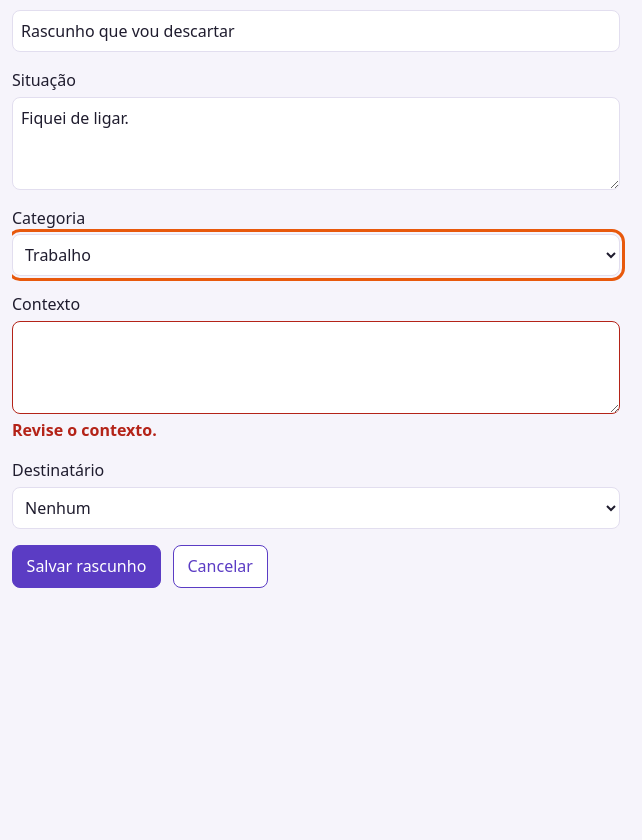
Scenario: A6: cancelar descarta os campos, o destinatário e os erros sem enviar
Earlier steps of the test are not shown.
Select "Informar direto" in the dropdown labelled "Destinatário": (316, 508) [12,487,620,529]
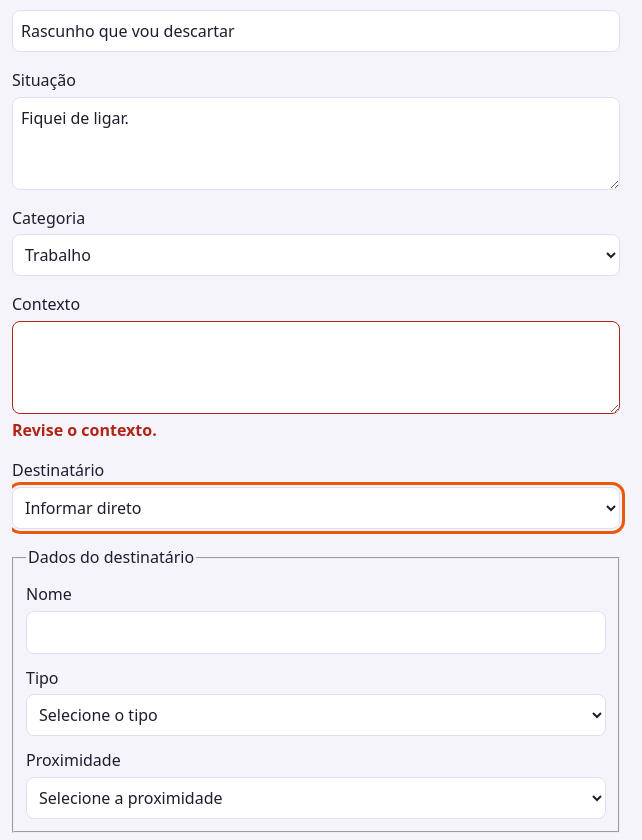
In the field labelled "Nome": (316, 632) [26,611,606,654], type "Rita"
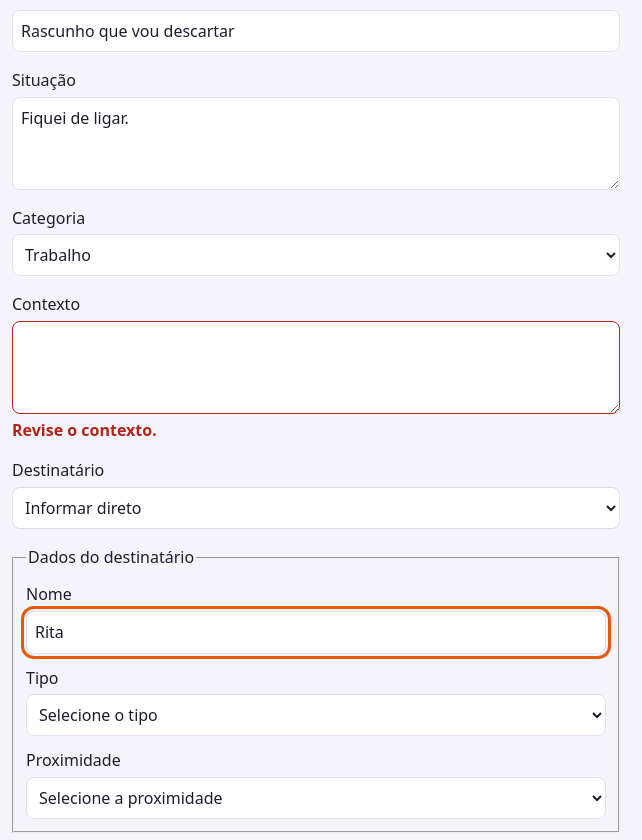
Select "Colega" in the dropdown labelled "Tipo": (316, 715) [26,694,606,736]
(page scrolled)
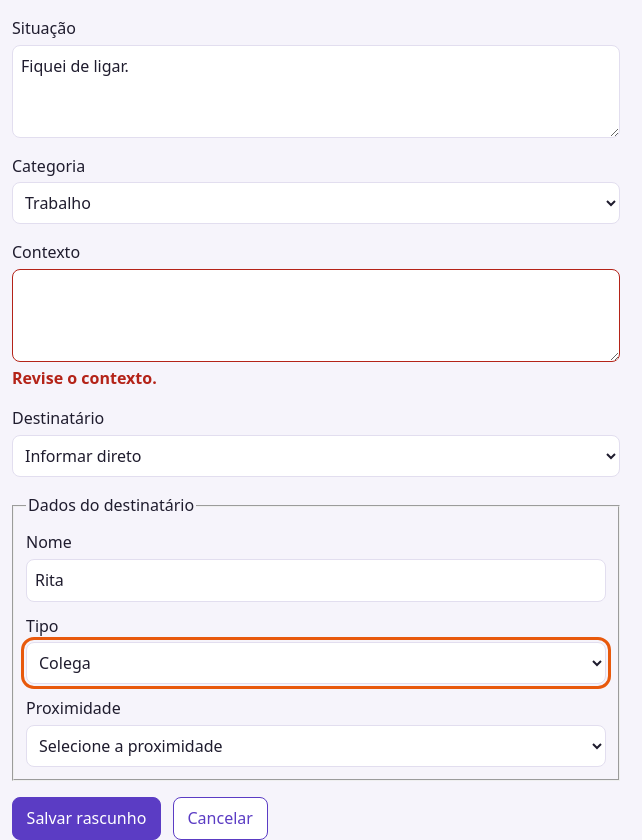
Click the button "Salvar rascunho": (86, 818) [12,797,161,839]
(page scrolled)
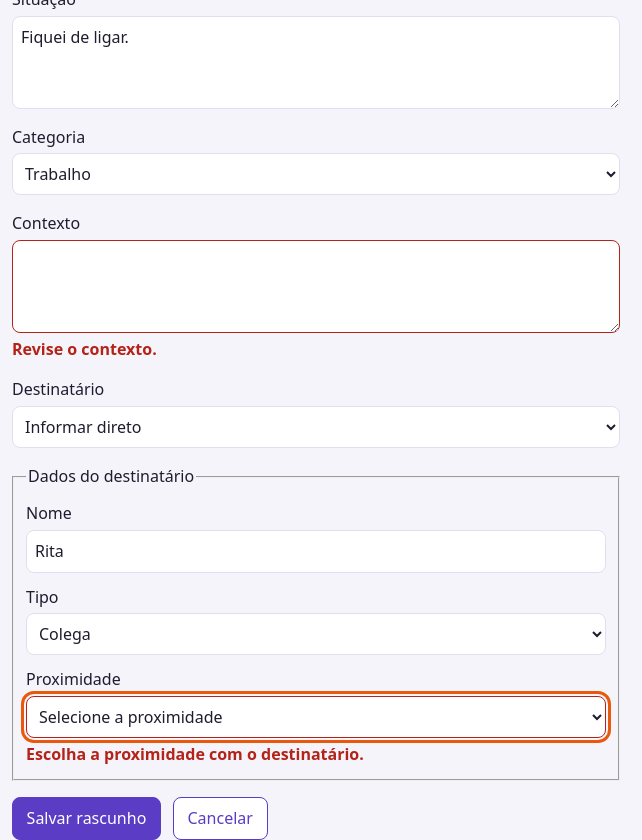
Click the button "Cancelar": (220, 818) [173,797,268,839]
(page scrolled)
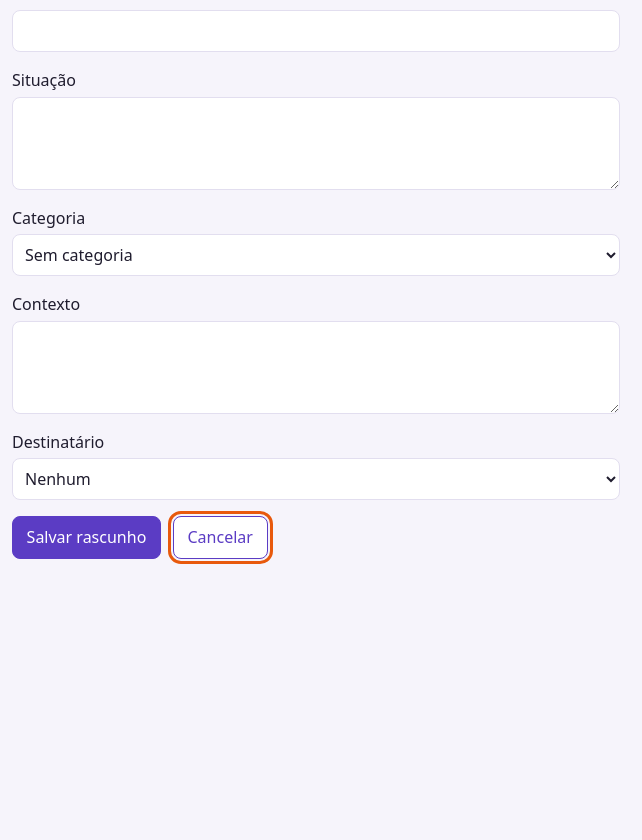
Expected: the field labelled "Título" is empty, [12,10,620,52]
Expected: the text box labelled "Situação" is empty, [12,97,620,190]
Expected: the message "Revise o contexto." is gone
Select "Informar direto" in the dropdown labelled "Destinatário": (316, 479) [12,458,620,500]
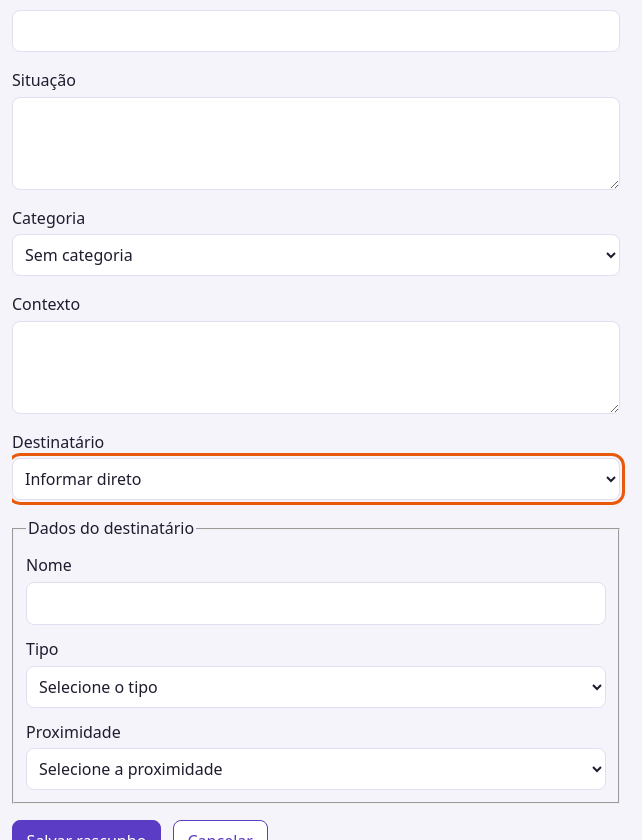
Expected: the field labelled "Nome" is empty, [26,582,606,625]
Expected: the dropdown labelled "Tipo" shows "Selecione o tipo", [26,666,606,708]
Expected: the dropdown labelled "Proximidade" shows "Selecione a proximidade", [26,748,606,790]
